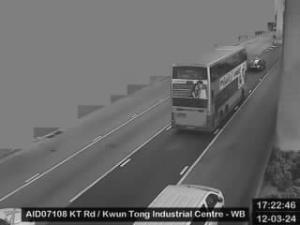bus: (171, 45, 249, 135)
vehicle: (133, 182, 225, 224), (249, 56, 267, 72)
